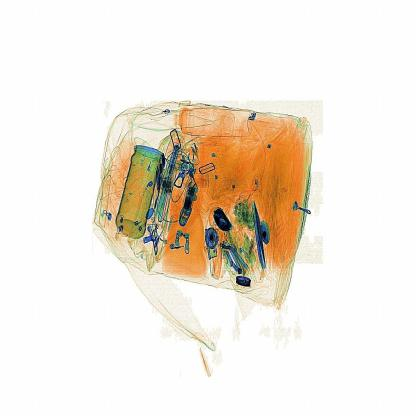scissors: (204, 190, 245, 237)
